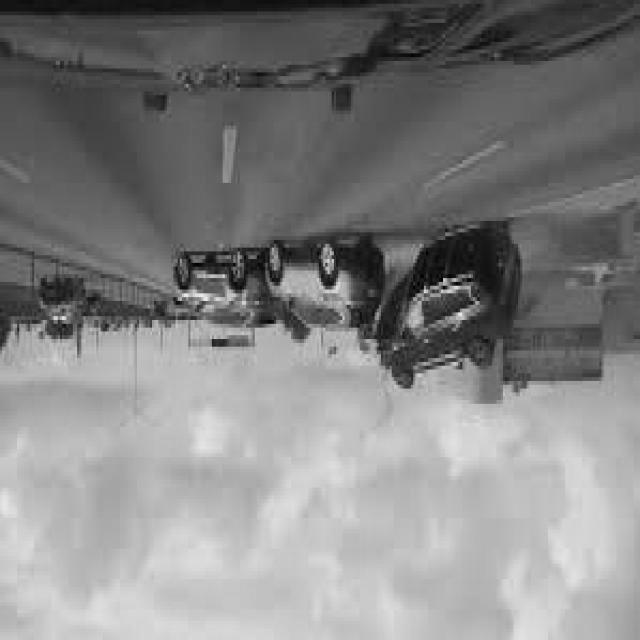moderate: (165, 238, 388, 352)
severe: (374, 221, 524, 408)
